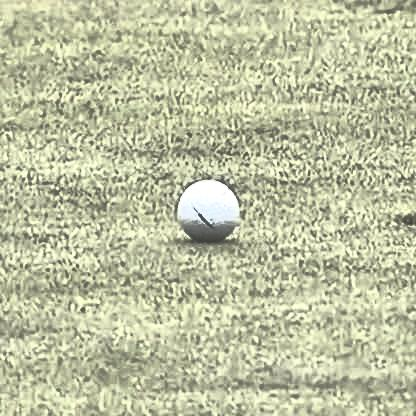golfball: (175, 177, 238, 239)
